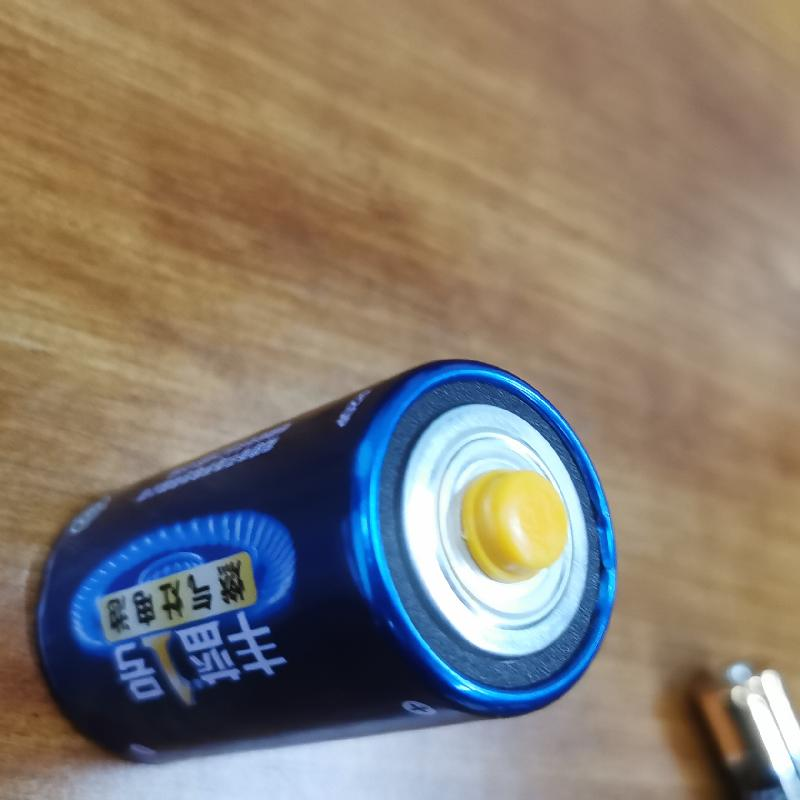battery: (28, 352, 621, 800)
